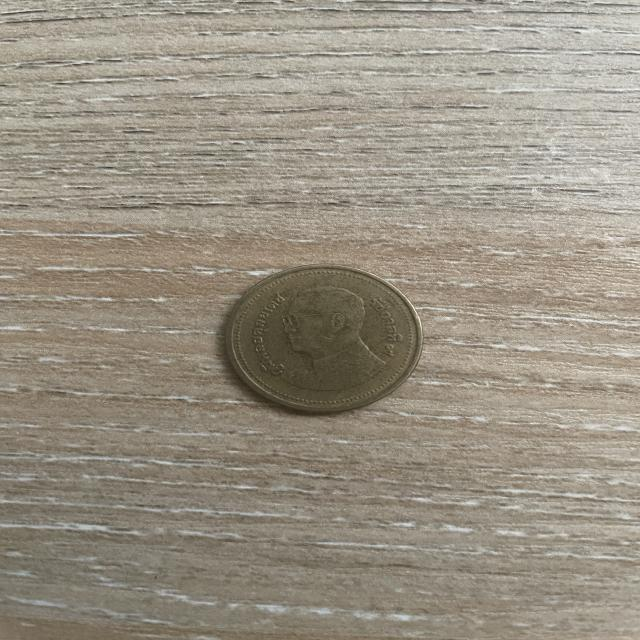2 Bath: (215, 258, 432, 418)
